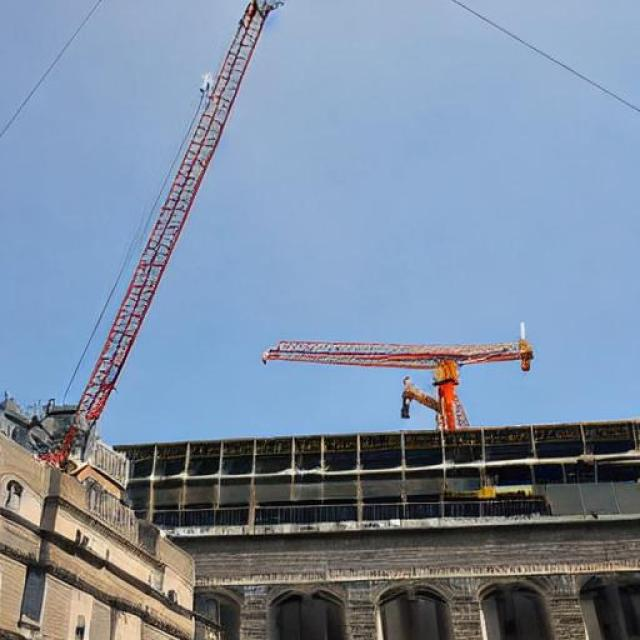crane: (4, 116, 555, 544)
